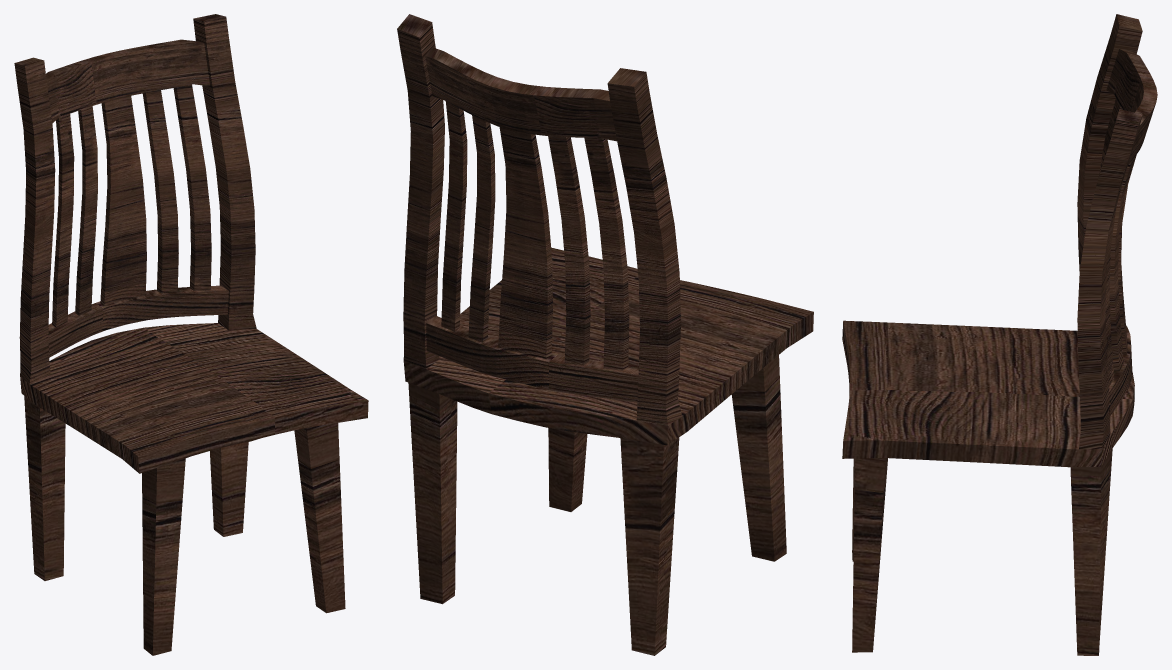
File: Chair.fbx
3 renders of one model, left to right at view 1: azimuth 30°, elevation 25°; view 2: azimuth 150°, elevation 25°; view 3: azimuth 270°, elevation 25°, orthographic. The views are drawn at different scales.
Parts seen in each view (by area): view 1: Chair; view 2: Chair; view 3: Chair.
Part boxes in pixels (<box>): Chair: <box>14,14,368,655</box>; Chair: <box>397,14,813,655</box>; Chair: <box>842,14,1157,655</box>.
Size of the model in its own units: 50.35 by 105 by 55.78.
